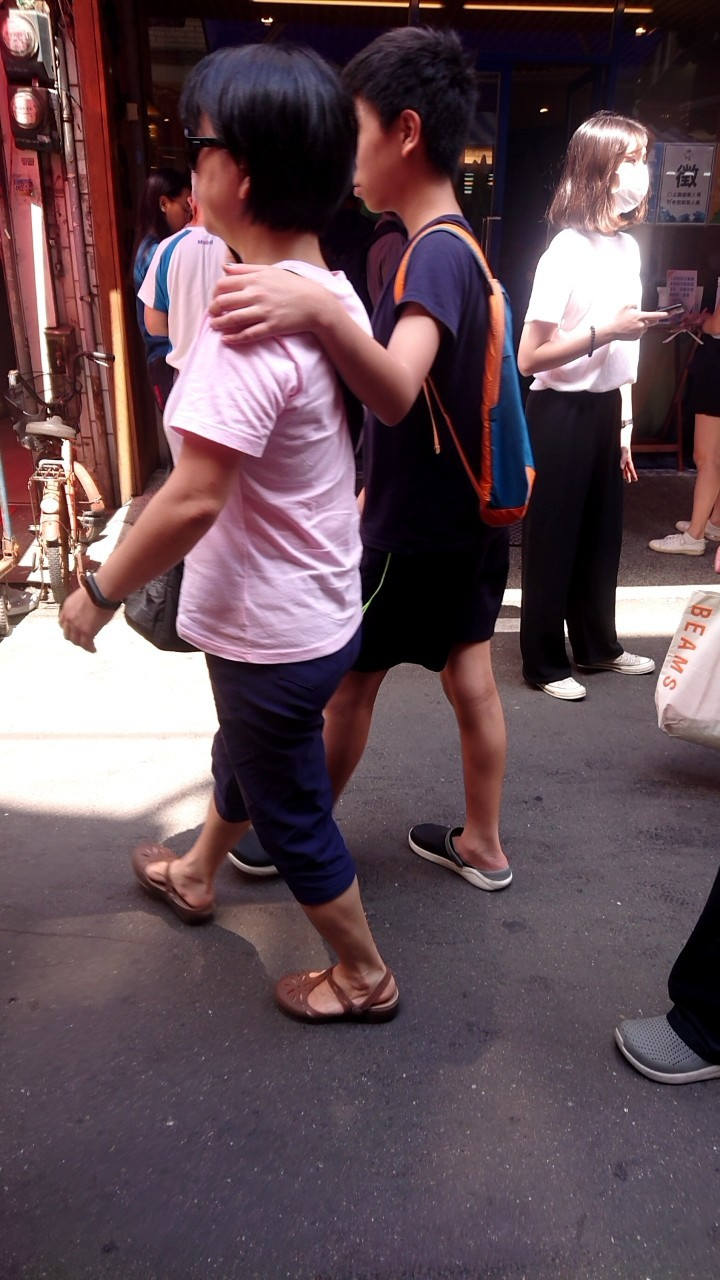people: (171, 39, 391, 1031), (346, 14, 520, 896), (532, 104, 665, 702), (158, 174, 234, 461), (134, 172, 189, 461)
